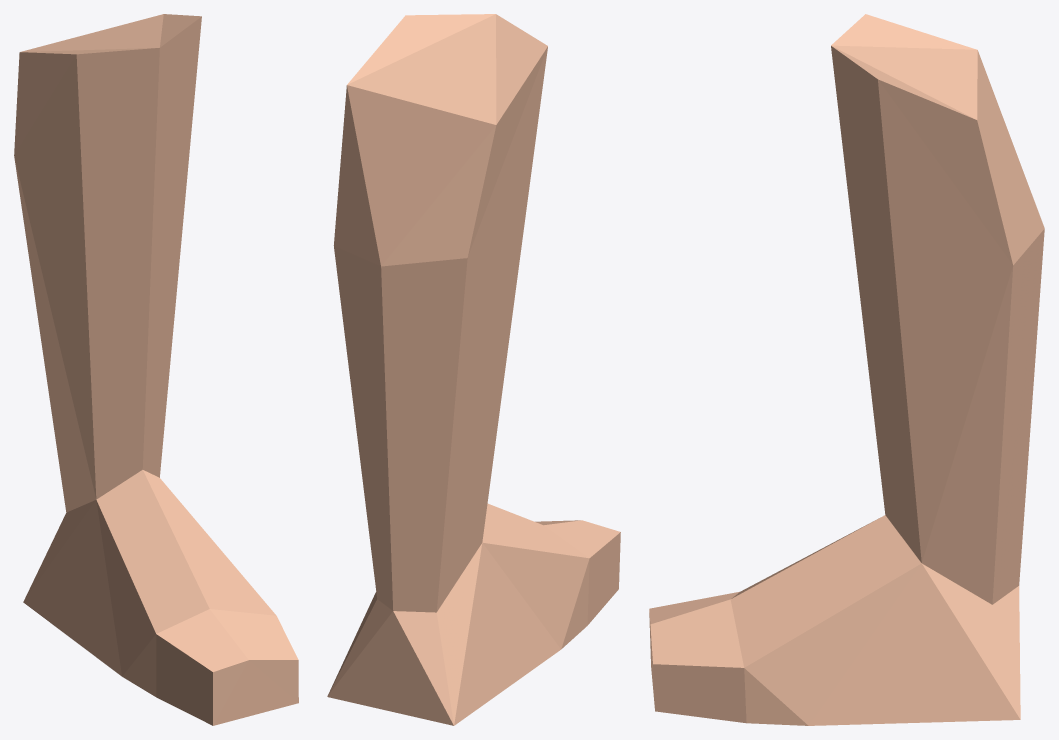
The model's file is Chr_LegLeft_Female_00_Static.fbx.
The picture shows the model from 3 angles, left to right: view 1: azimuth 30°, elevation 25°; view 2: azimuth 150°, elevation 25°; view 3: azimuth 270°, elevation 25°; orthographic projection. The views are drawn at different scales.
Visible parts, largest first — view 1: Chr_LegLeft_Female_00_Static; view 2: Chr_LegLeft_Female_00_Static; view 3: Chr_LegLeft_Female_00_Static.
Boxes of the visible parts, x1,y1,x2,y2 form: Chr_LegLeft_Female_00_Static: (14, 14, 298, 725); Chr_LegLeft_Female_00_Static: (327, 14, 620, 725); Chr_LegLeft_Female_00_Static: (649, 14, 1044, 725).
Bounding box in the file's own units: 0.1065 × 0.4015 × 0.2258.
